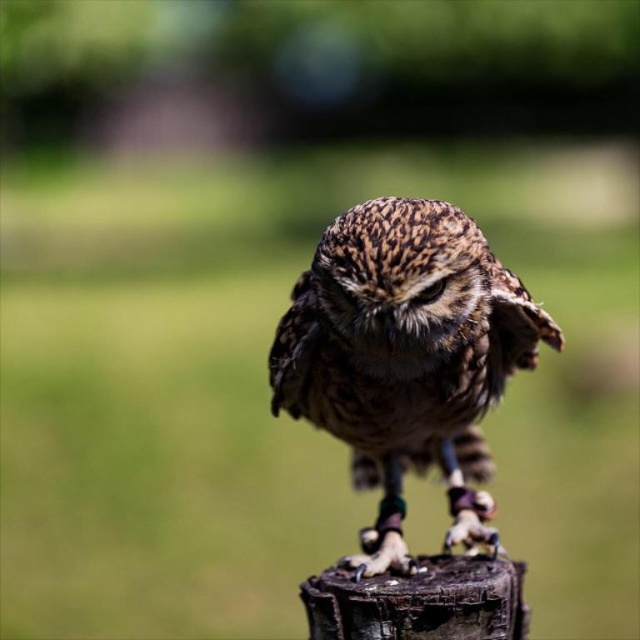Owl: (261, 198, 568, 581)
